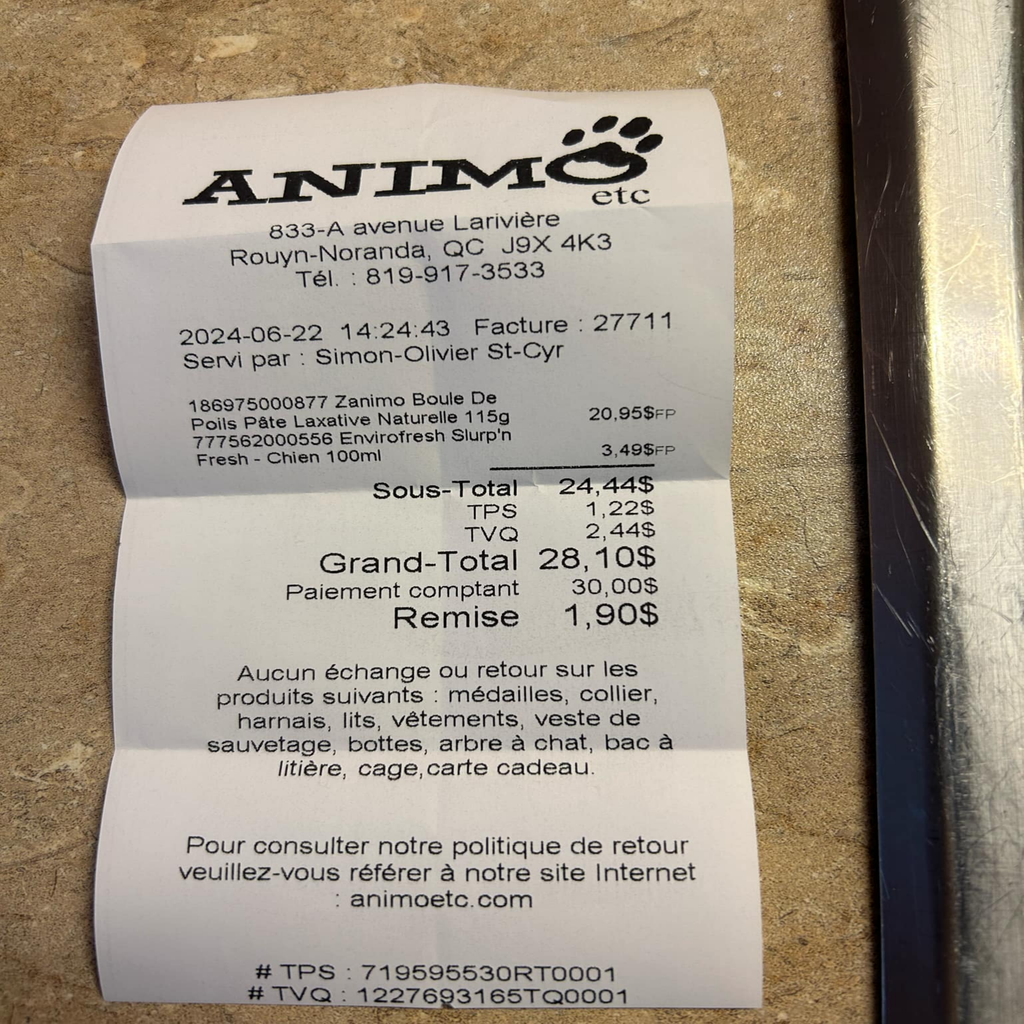recipt: (92, 80, 760, 1005)
